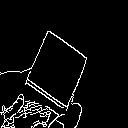cube: (18, 25, 91, 112)
